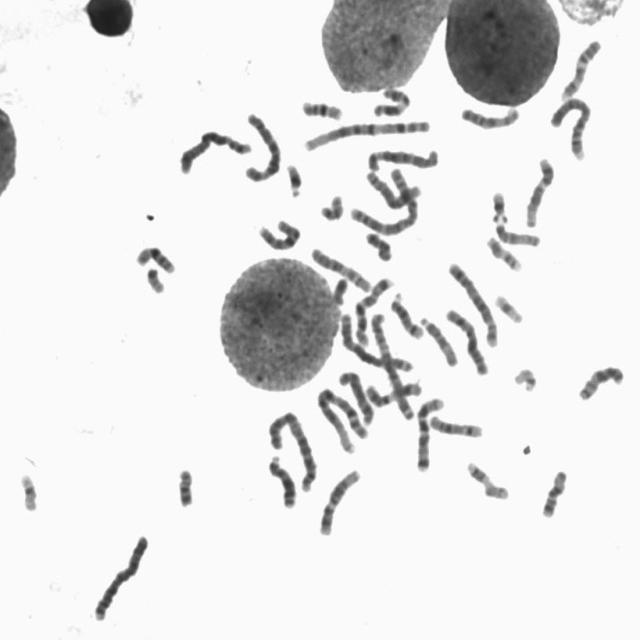A1: (300, 112, 433, 154), (313, 382, 371, 454)
A2: (346, 166, 421, 237), (264, 405, 321, 493)
A3: (367, 306, 419, 422), (335, 308, 417, 372)
B4: (89, 528, 152, 623), (546, 92, 596, 162)
B5: (444, 255, 502, 348), (176, 124, 255, 176)
C10: (307, 242, 374, 294), (254, 212, 304, 252)
C11: (363, 376, 425, 408), (369, 81, 414, 119)
C12: (316, 463, 364, 538), (522, 151, 558, 228)
C6: (240, 106, 284, 184), (364, 142, 442, 173)
C7: (350, 270, 397, 348), (412, 391, 448, 473)
C8: (362, 164, 424, 209), (334, 364, 376, 427)
C9: (557, 34, 604, 100), (454, 101, 523, 130)
D13: (264, 449, 300, 510), (578, 364, 625, 401)
D14: (387, 287, 427, 339), (426, 410, 487, 439)
D15: (416, 310, 461, 367), (492, 215, 544, 248)
E16: (132, 239, 179, 275), (298, 94, 346, 122)
E17: (462, 455, 514, 502), (483, 230, 525, 272)
E18: (538, 464, 570, 519), (362, 225, 395, 262)
F19: (492, 288, 526, 324), (15, 467, 42, 512)
F20: (174, 462, 198, 509), (143, 262, 168, 294)
G21: (282, 157, 306, 198), (487, 185, 511, 224)
G22: (510, 362, 540, 394), (143, 262, 168, 294)
X: (442, 303, 492, 377)
Y: (328, 272, 351, 306)
